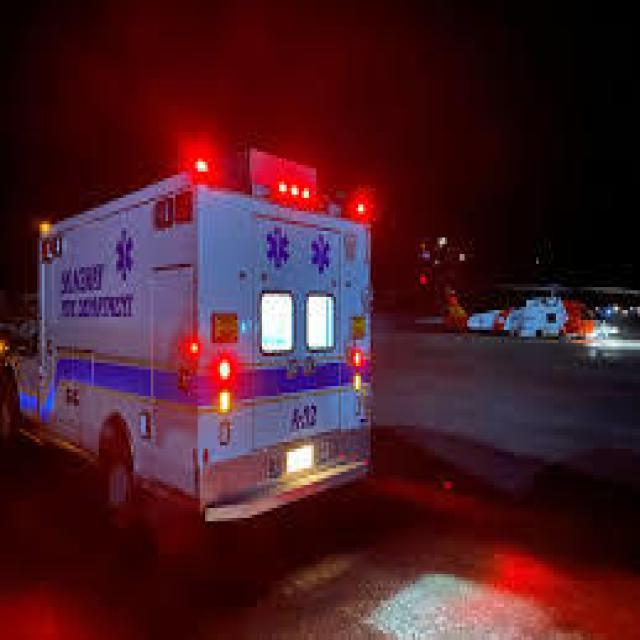ambulance: (160, 304, 373, 446), (164, 137, 384, 243), (47, 234, 146, 325)
